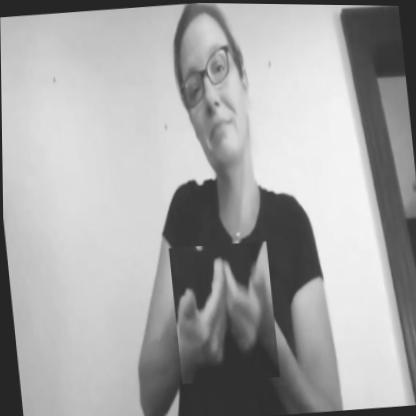HowAreYou: (169, 239, 279, 385)
